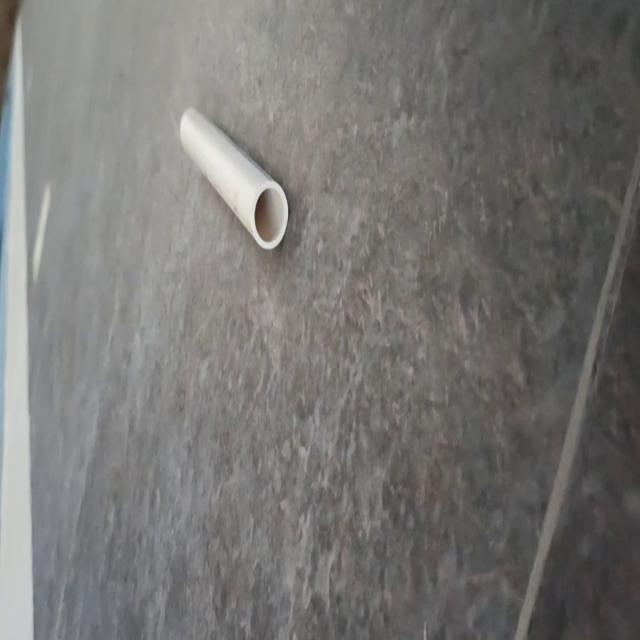Cube: (178, 104, 290, 252)
